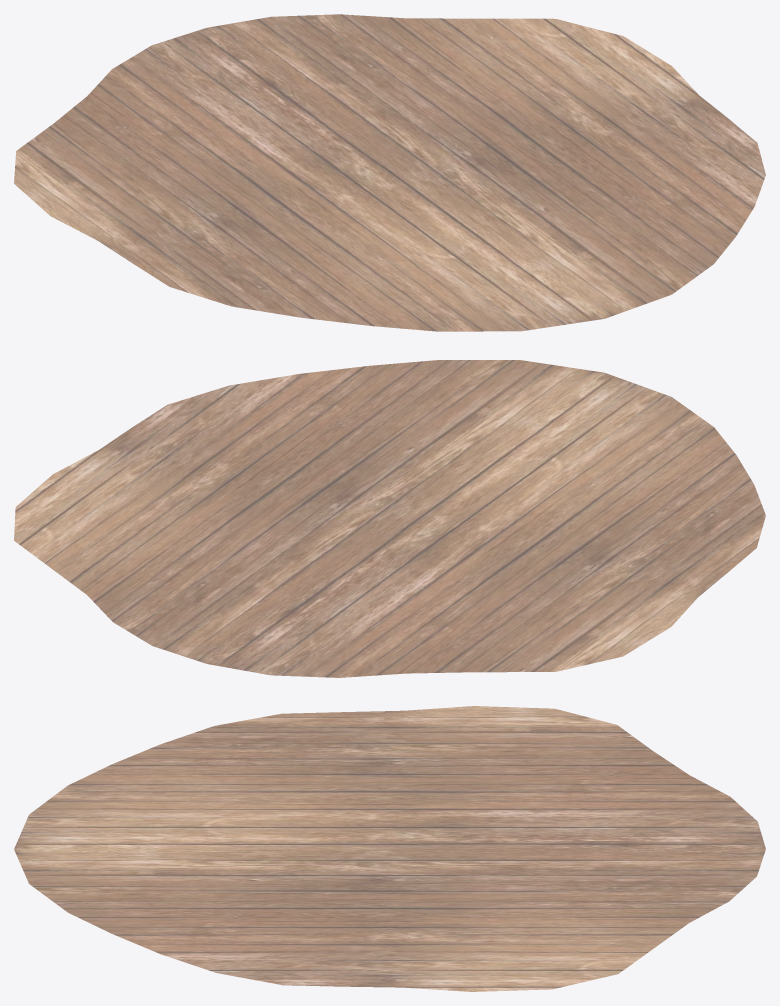
The model's file is floor.glb.
3 renders of one model, top to bottom at view 1: azimuth 30°, elevation 25°; view 2: azimuth 150°, elevation 25°; view 3: azimuth 270°, elevation 25°, orthographic. The views are drawn at different scales.
Parts seen in each view (by area): view 1: Circle; view 2: Circle; view 3: Circle.
Boxes of the visible parts, x1,y1,x2,y2 form: Circle: (14, 14, 765, 331); Circle: (14, 360, 765, 677); Circle: (14, 706, 765, 991).
Bounding box in the file's own units: 2 × 0 × 2.22.
Materials: 1 (1 with a texture image).
